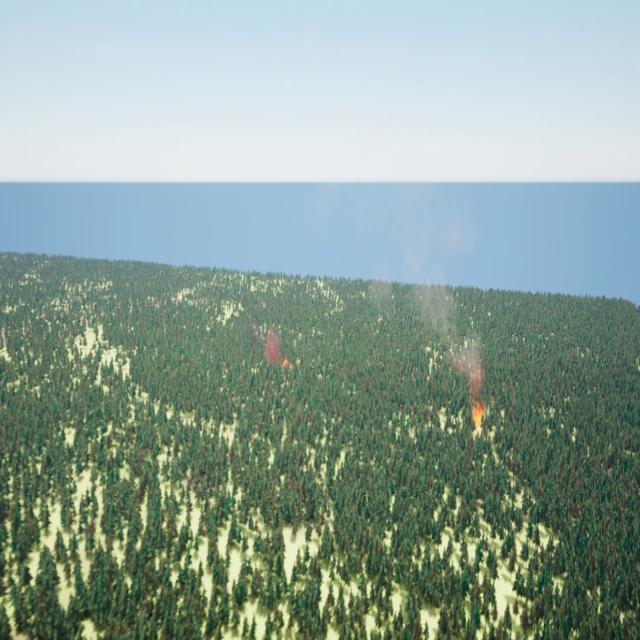fire: (472, 405, 484, 431)
smoke: (374, 180, 487, 398), (261, 329, 290, 376)
